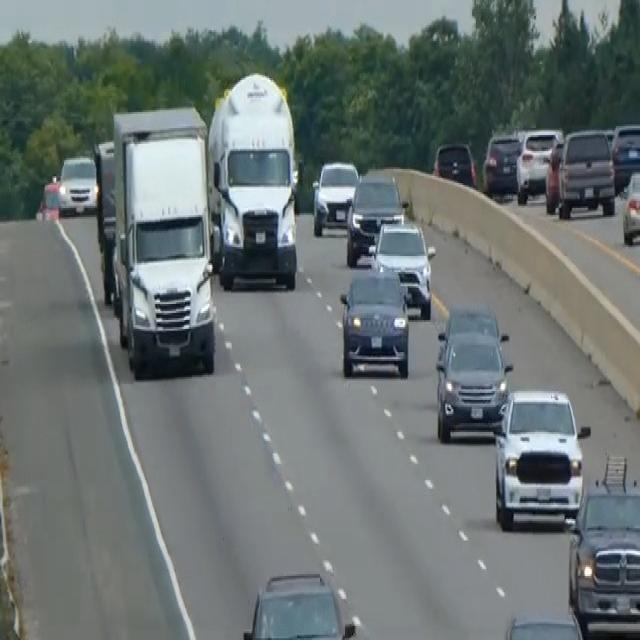car: (492, 386, 588, 532), (565, 475, 639, 638), (434, 304, 512, 443), (241, 567, 357, 638), (339, 265, 410, 379), (371, 217, 435, 318), (345, 171, 407, 265), (556, 126, 615, 219), (311, 156, 359, 234), (515, 126, 560, 203), (499, 608, 589, 638), (482, 130, 521, 196), (57, 153, 97, 215), (432, 138, 476, 188), (611, 121, 639, 192), (543, 135, 565, 212), (621, 166, 639, 246), (35, 178, 60, 222)
lorry: (110, 103, 216, 377), (208, 70, 300, 292)
truck: (93, 137, 115, 243)
